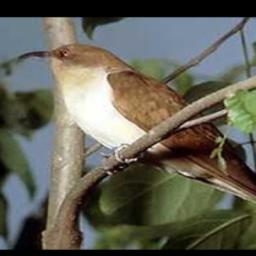Cuckoo: (16, 40, 256, 235)
